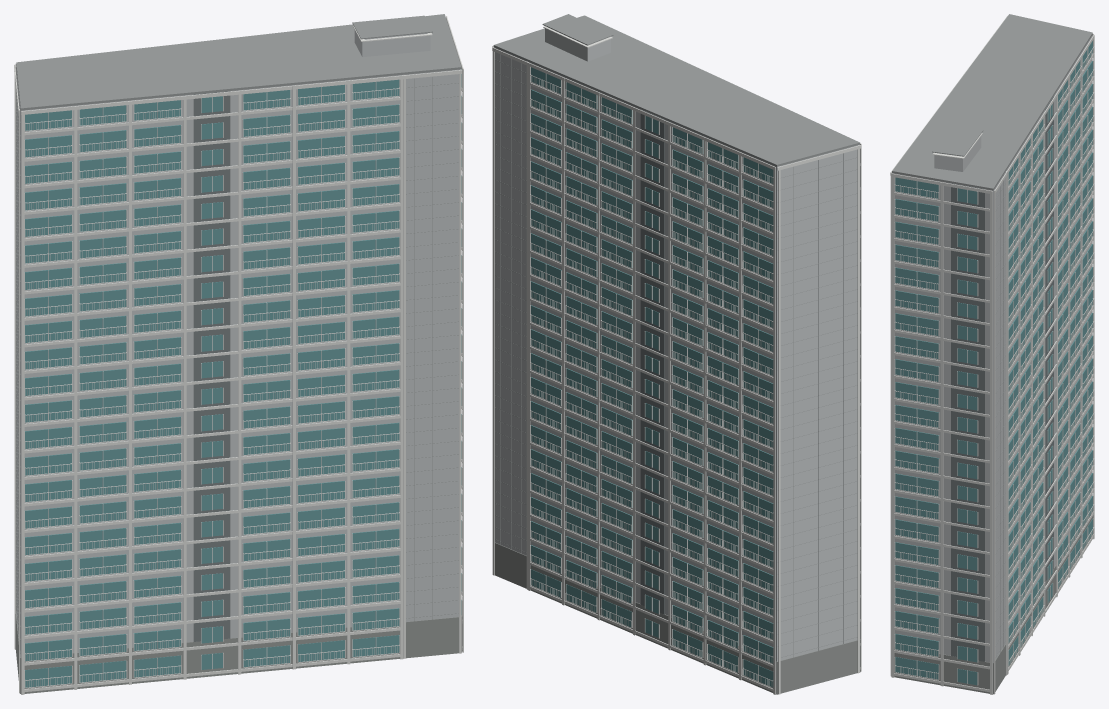
The model's file is bespoke-jamsil-ricenz-227.glb.
3 views of the same model, side by side, from view 1: azimuth 30°, elevation 25°; view 2: azimuth 150°, elevation 25°; view 3: azimuth 270°, elevation 25° (orthographic). The views are drawn at different scales.
Visible parts, largest first — view 1: Ricenz227_editable_Ricenz227_turquoise_balcony_glazing, Ricenz227_editable_Ricenz227_light_grey_solid_wall, Ricenz227_white_exact_chunk_1, Ricenz227_white_exact_chunk_0, Ricenz227_white_exact_chunk_2, Ricenz227_editable_Ricenz227_modest_grey_flat_roof_caps, Ricenz227_editable_Ricenz227_narrow_charcoal_service_strips, Ricenz227_editable_Ricenz227_muted_ground_wall, Ricenz227_white_exact_chunk_4; view 2: Ricenz227_editable_Ricenz227_light_grey_solid_wall, Ricenz227_editable_Ricenz227_turquoise_balcony_glazing, Ricenz227_white_exact_chunk_3, Ricenz227_white_exact_chunk_4, Ricenz227_editable_Ricenz227_modest_grey_flat_roof_caps, Ricenz227_white_exact_chunk_2, Ricenz227_editable_Ricenz227_narrow_charcoal_service_strips, Ricenz227_editable_Ricenz227_muted_ground_wall, Ricenz227_white_exact_chunk_0; view 3: Ricenz227_editable_Ricenz227_turquoise_balcony_glazing, Ricenz227_white_exact_chunk_2, Ricenz227_editable_Ricenz227_light_grey_solid_wall, Ricenz227_editable_Ricenz227_modest_grey_flat_roof_caps, Ricenz227_white_exact_chunk_4, Ricenz227_white_exact_chunk_3, Ricenz227_editable_Ricenz227_narrow_charcoal_service_strips, Ricenz227_editable_Ricenz227_muted_ground_wall.
Part boxes in pixels (left/top/right/bottom): Ricenz227_editable_Ricenz227_turquoise_balcony_glazing: left=24, top=69, right=461, bottom=687; Ricenz227_editable_Ricenz227_light_grey_solid_wall: left=16, top=30, right=461, bottom=657; Ricenz227_white_exact_chunk_1: left=186, top=84, right=400, bottom=676; Ricenz227_white_exact_chunk_0: left=14, top=64, right=183, bottom=693; Ricenz227_white_exact_chunk_2: left=21, top=16, right=463, bottom=694; Ricenz227_editable_Ricenz227_modest_grey_flat_roof_caps: left=16, top=14, right=461, bottom=653; Ricenz227_editable_Ricenz227_narrow_charcoal_service_strips: left=193, top=91, right=230, bottom=641; Ricenz227_editable_Ricenz227_muted_ground_wall: left=15, top=613, right=462, bottom=693; Ricenz227_white_exact_chunk_4: left=15, top=25, right=432, bottom=610; Ricenz227_editable_Ricenz227_light_grey_solid_wall: left=494, top=28, right=860, bottom=661; Ricenz227_editable_Ricenz227_turquoise_balcony_glazing: left=531, top=67, right=773, bottom=687; Ricenz227_white_exact_chunk_3: left=564, top=82, right=738, bottom=676; Ricenz227_white_exact_chunk_4: left=527, top=26, right=775, bottom=694; Ricenz227_editable_Ricenz227_modest_grey_flat_roof_caps: left=493, top=14, right=860, bottom=657; Ricenz227_white_exact_chunk_2: left=492, top=46, right=861, bottom=671; Ricenz227_editable_Ricenz227_narrow_charcoal_service_strips: left=640, top=109, right=664, bottom=614; Ricenz227_editable_Ricenz227_muted_ground_wall: left=495, top=542, right=860, bottom=694; Ricenz227_white_exact_chunk_0: left=777, top=145, right=861, bottom=694; Ricenz227_editable_Ricenz227_turquoise_balcony_glazing: left=895, top=41, right=1092, bottom=685; Ricenz227_white_exact_chunk_2: left=890, top=15, right=1032, bottom=694; Ricenz227_editable_Ricenz227_light_grey_solid_wall: left=892, top=35, right=1092, bottom=662; Ricenz227_editable_Ricenz227_modest_grey_flat_roof_caps: left=892, top=14, right=1092, bottom=655; Ricenz227_white_exact_chunk_4: left=932, top=34, right=1094, bottom=674; Ricenz227_white_exact_chunk_3: left=1020, top=79, right=1081, bottom=632; Ricenz227_editable_Ricenz227_narrow_charcoal_service_strips: left=951, top=96, right=1053, bottom=661; Ricenz227_editable_Ricenz227_muted_ground_wall: left=894, top=511, right=1093, bottom=694.
Size of the model in its own units: 49.68 by 68.73 by 24.37.
